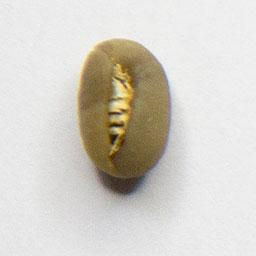peaberry: (75, 35, 173, 179)
